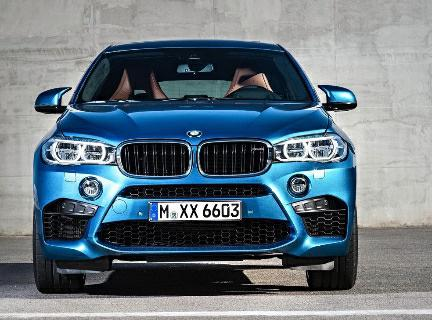宝马-X6M: (30, 39, 367, 300)
